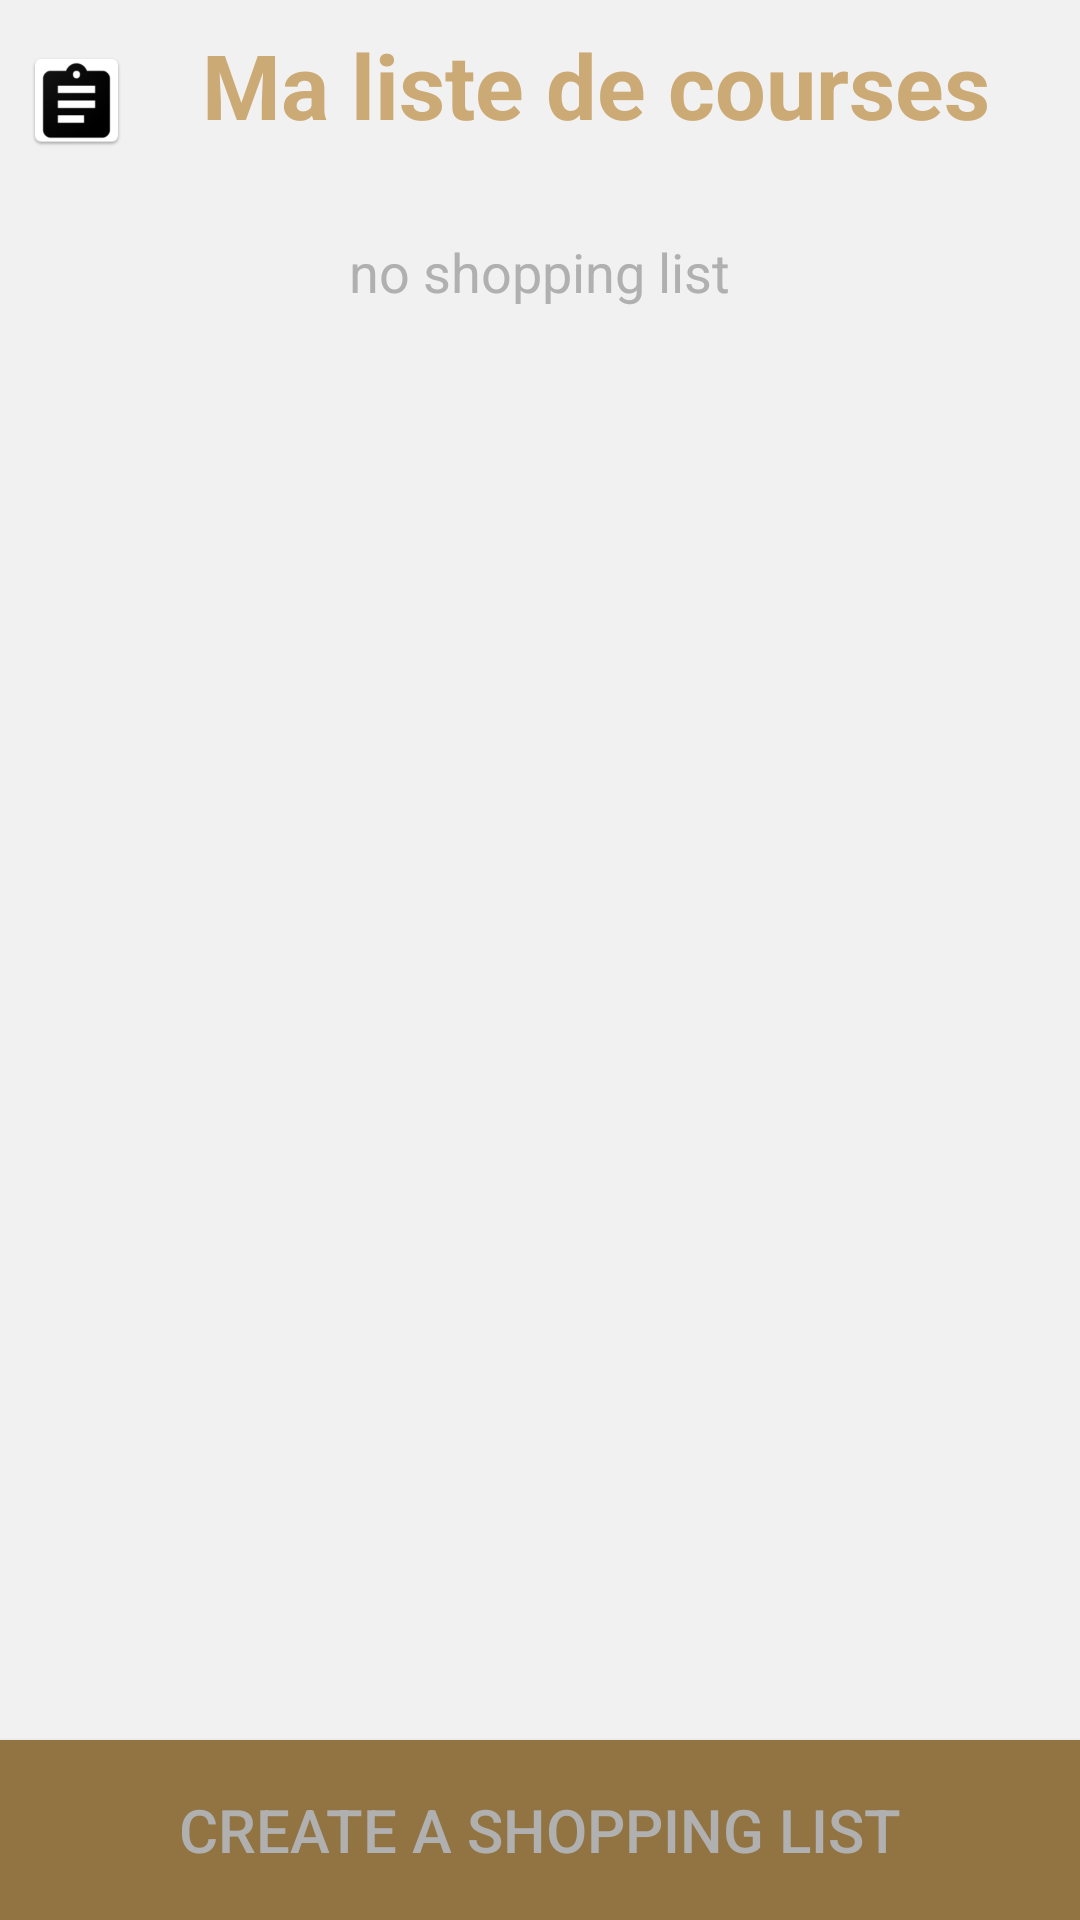

Named icons in this screenshot (1080x1920) and their bounding boxes, [x1, y1, x2, y2]:
assignment: [34, 63, 119, 144]
